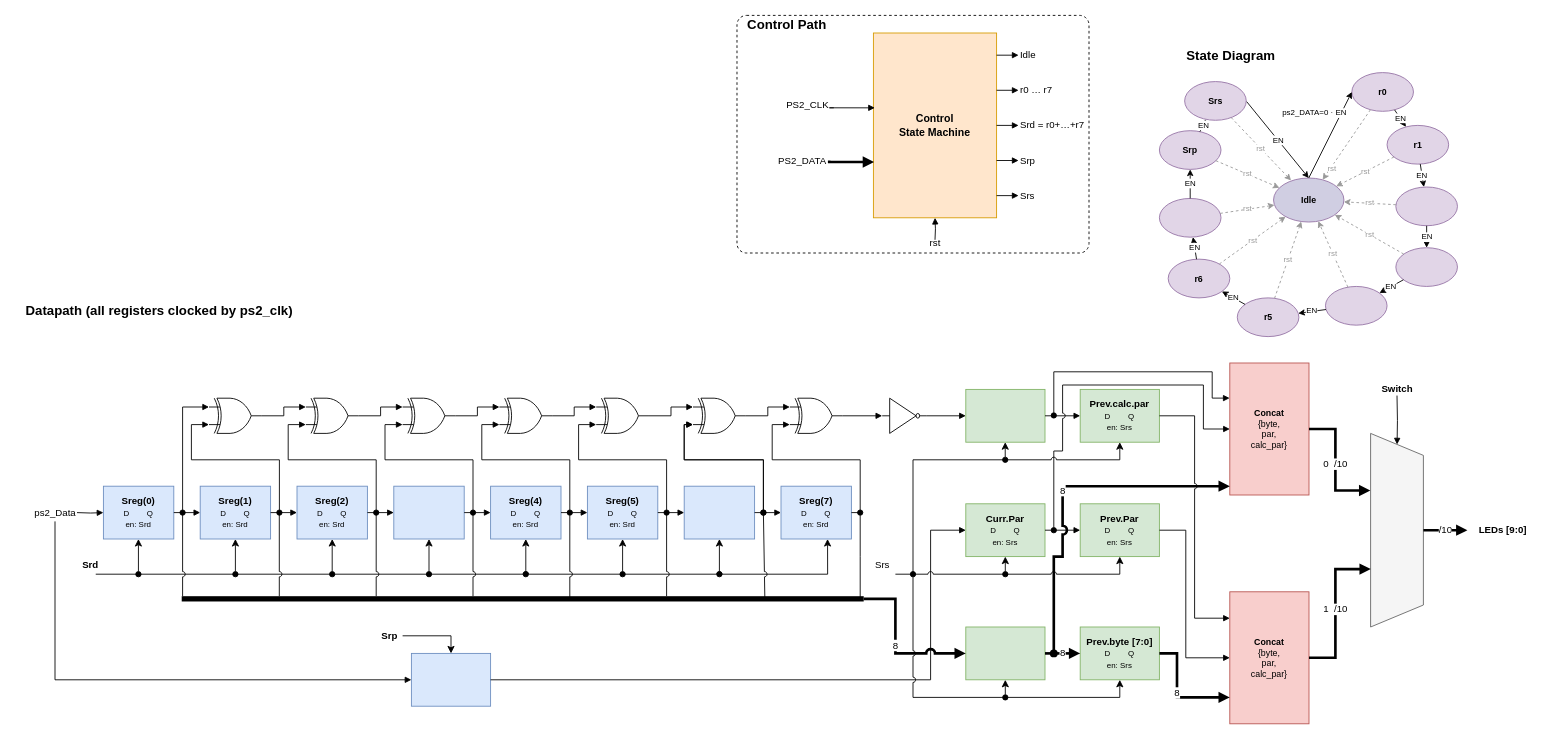
The diagram is 1552 pixels wide and 739 high, and some of its shapes have lost their labels. Here are the shapes that lost their labels. From the top down, the centre of each, then its label:
At point 1190,217: "r7".
At point 1426,206: "r2".
At point 1426,266: "r3".
At point 1356,305: "r4".
At point 1005,415: "Curr.calc.par D Q en: Srs".
At point 428,512: "Sreg(3) D Q en: Srd".
At point 719,512: "Sreg(6) D Q en: Srd".
At point 1396,530: "MUX".
At point 1005,653: "Curr.byte [7:0] D Q en: Srs".
At point 451,679: "Spar D Q en: Srp".
